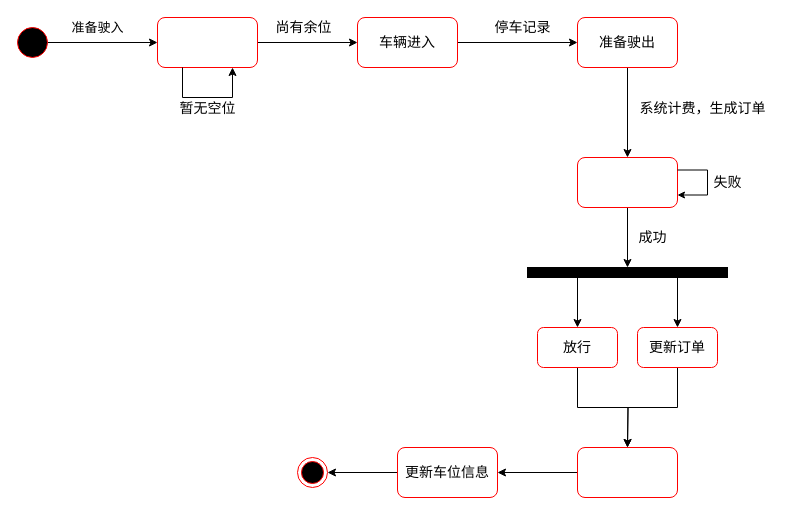
The diagram is 790 pixels wide and 515 high, and some of its shapes have lost their labels. Each missing label, with the box of its shape:
支付: (576, 156, 678, 208)
查询车场空位: (156, 16, 258, 68)
车辆驶出: (576, 446, 678, 498)
